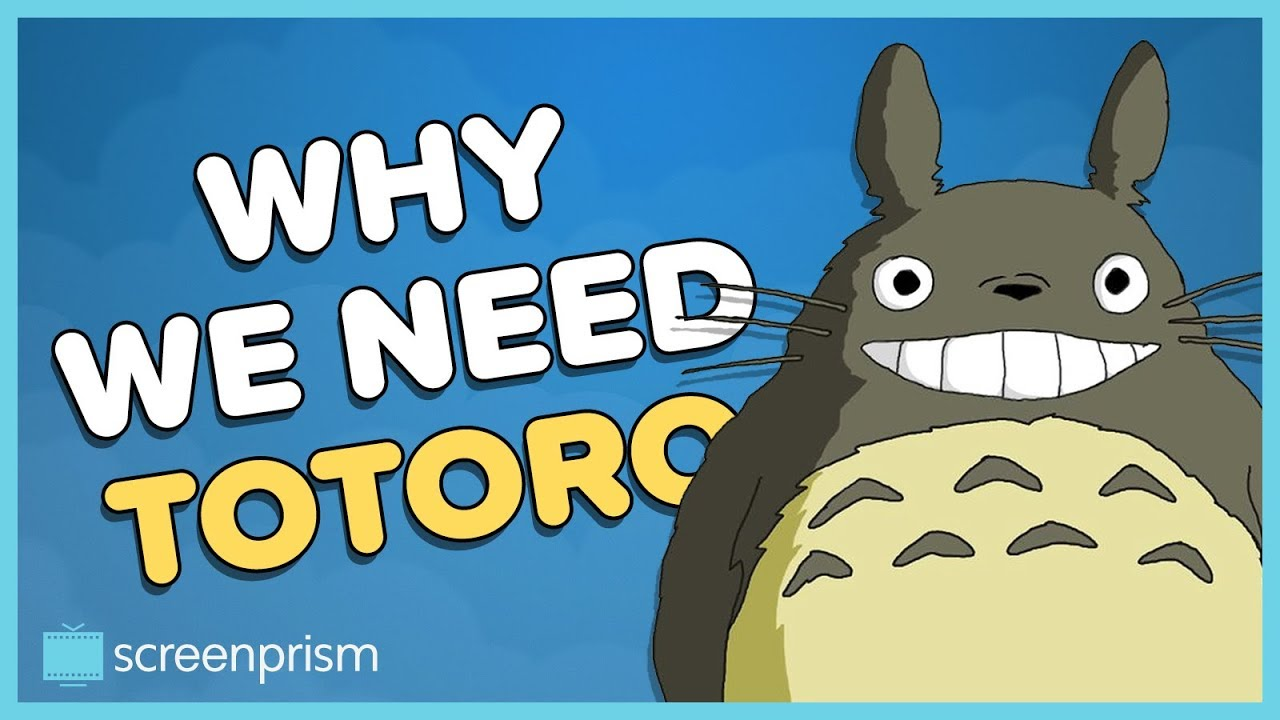Totoro: (657, 43, 1263, 704)
